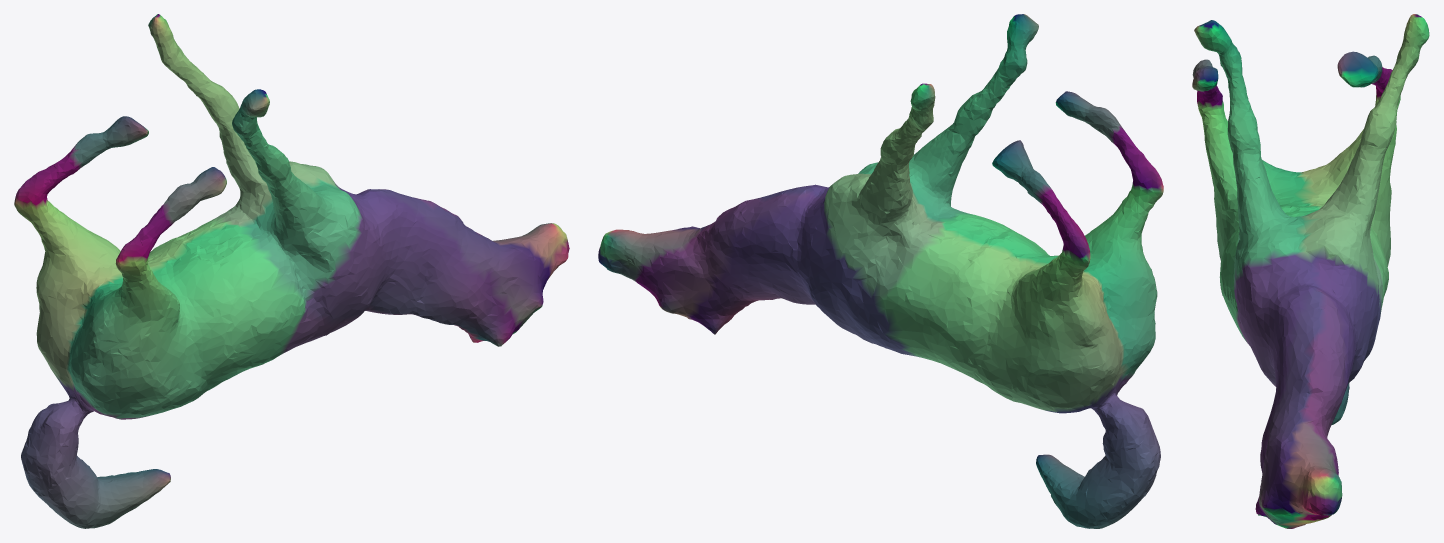
File: horse-20.off.obj
3 views of the same model, side by side, from view 1: azimuth 30°, elevation 25°; view 2: azimuth 150°, elevation 25°; view 3: azimuth 270°, elevation 25° (orthographic). The views are drawn at different scales.
Size of the model in its own units: 1.44 by 1.13 by 0.5129.
